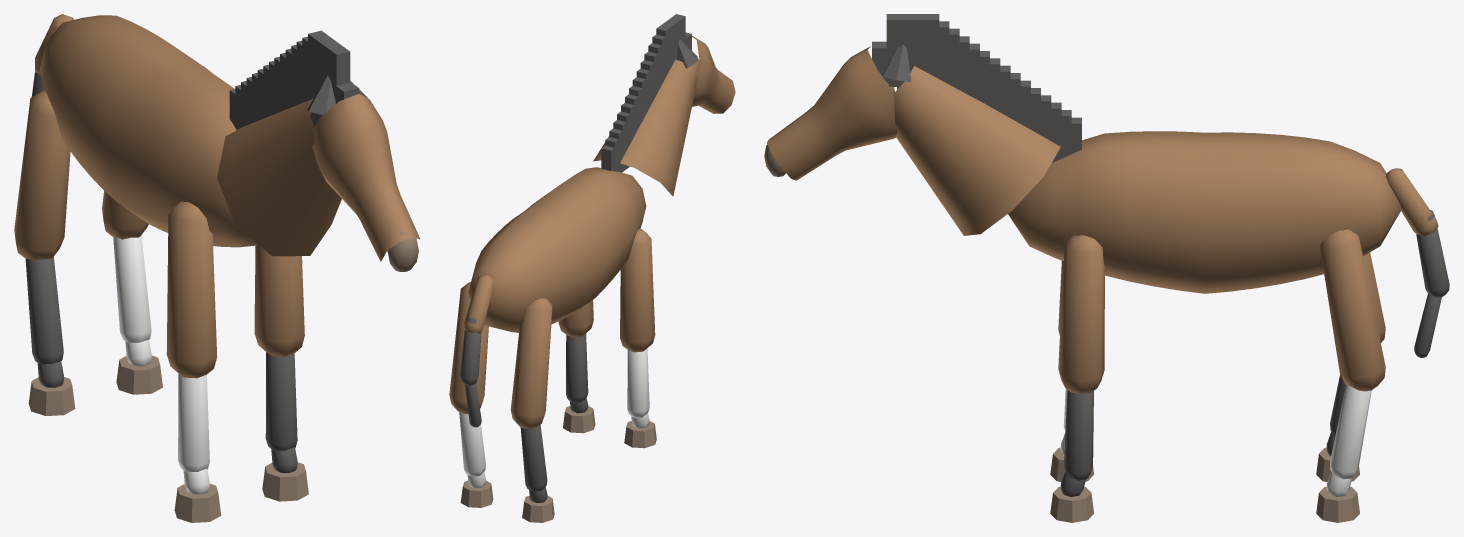
Rendered from pony-standing-bay.glb.
The picture shows the model from 3 angles, left to right: view 1: azimuth 30°, elevation 25°; view 2: azimuth 150°, elevation 25°; view 3: azimuth 270°, elevation 25°; orthographic projection. The views are drawn at different scales.
Visible parts, largest first — view 1: pony-standing; view 2: pony-standing; view 3: pony-standing.
Boxes of the visible parts, left/top/right/bottom form: pony-standing: left=14, top=14, right=420, bottom=522; pony-standing: left=449, top=14, right=735, bottom=522; pony-standing: left=764, top=14, right=1449, bottom=522.
Size of the model in its own units: 0.4536 by 1.71 by 2.22.
